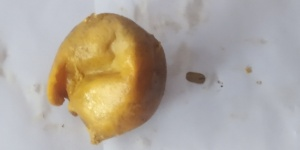BAD: (51, 12, 168, 135)
